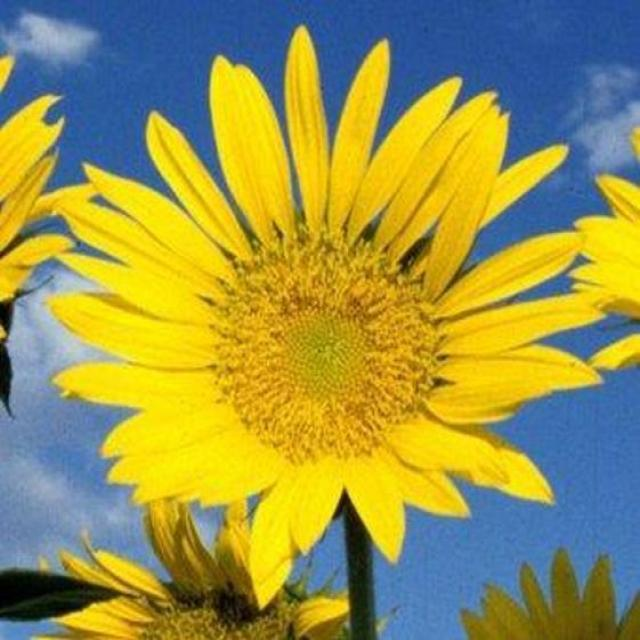sunflower: (53, 4, 626, 612), (21, 485, 398, 640), (0, 39, 110, 350), (564, 114, 640, 380), (454, 540, 640, 640)
